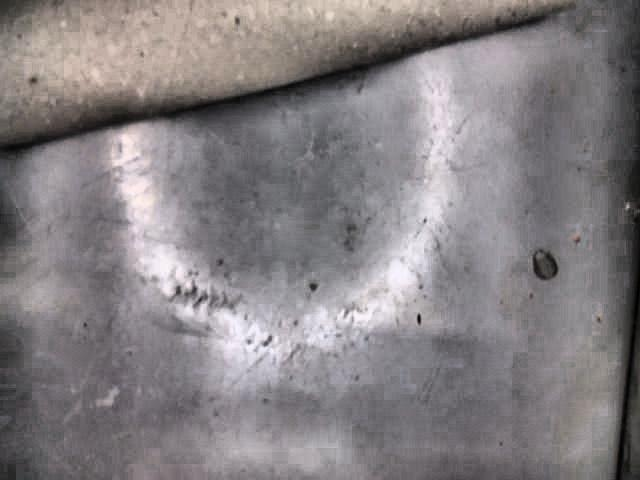Paper: (0, 2, 584, 157)
